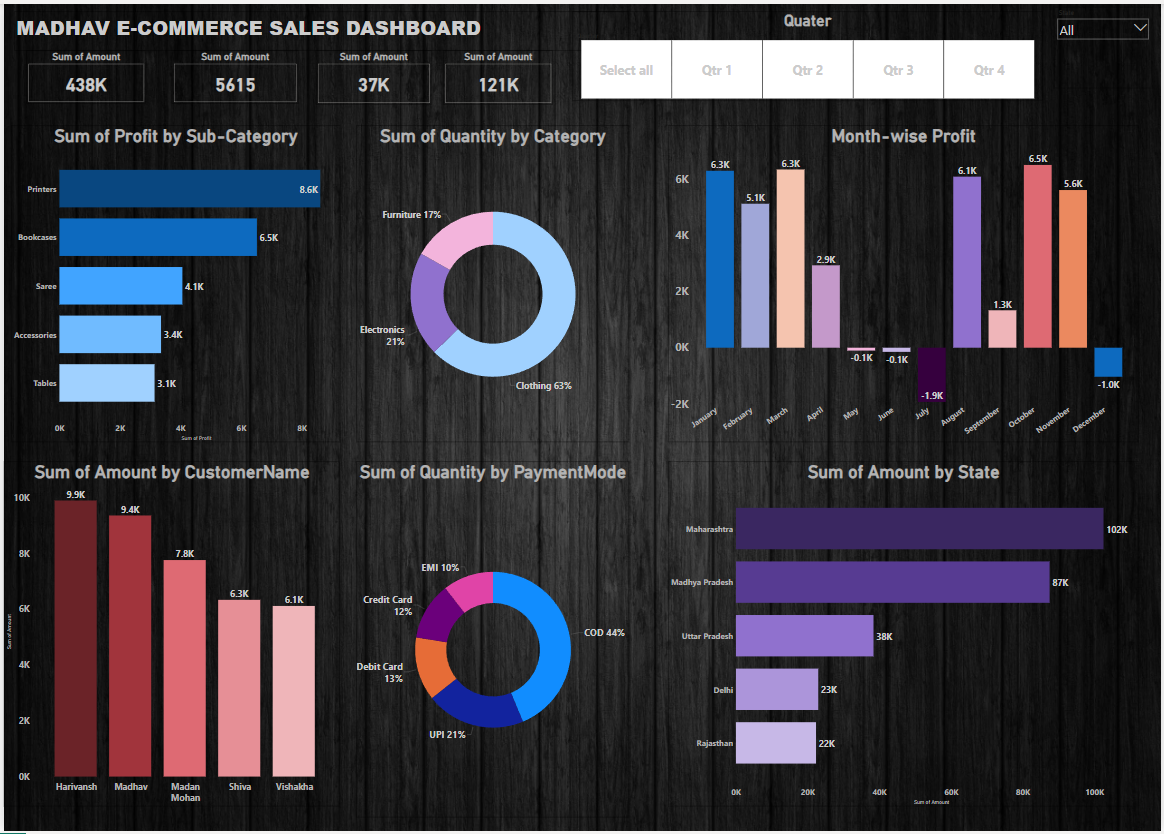

The dashboard page shown, as its layout file describes it:
{"tool":"powerbi","page":{"name":"DASHBOARDS ","canvas":[3500,2500],"ordinal":0},"visuals":[{"type":"columnChart","title":"Month-wise Profit","fields":{"Category":["Orders.Order Date.Variation.Date Hierarchy.Month"],"Y":["Sum(Details.Profit)"]},"box":[2009.1,366.7,1421.2,957.6],"z":0},{"type":"clusteredBarChart","fields":{"Category":["Details.Sub-Category"],"Y":["Sum(Details.Profit)"]},"box":[21.2,366.7,993.9,957.6],"z":1000},{"type":"donutChart","fields":{"Category":["Details.Category"],"Y":["Sum(Details.Quantity)"]},"box":[1066.7,366.7,824.2,957.6],"z":2000},{"type":"donutChart","fields":{"Category":["Details.PaymentMode"],"Y":["Sum(Details.Quantity)"]},"box":[1066.7,1384.8,824.2,1075.8],"z":3000},{"type":"cardVisual","title":"Sum of Amount","fields":{"Data":["Sum(Details.Amount)"]},"box":[69.7,139.4,360.6,160.6],"z":4000},{"type":"cardVisual","title":"Sum of Amount","fields":{"Data":["Sum(Details.Quantity)"]},"box":[509.1,142.4,381.8,160.6],"z":5000},{"type":"cardVisual","title":"Sum of Amount","fields":{"Data":["Sum(Details.Profit)"]},"box":[942.4,139.4,348.5,163.6],"z":6000},{"type":"cardVisual","title":"Sum of Amount","fields":{"Data":["Sum(Details.AOV)"]},"box":[1330.3,139.4,330.3,163.6],"z":7000},{"type":"clusteredBarChart","fields":{"Category":["Orders.State"],"Y":["Sum(Details.Amount)"]},"box":[2009.1,1384.8,1421.2,1042.4],"z":8000},{"type":"clusteredColumnChart","fields":{"Category":["Orders.CustomerName"],"Y":["Sum(Details.Amount)"]},"box":[0,1384.8,1015.2,1042.4],"z":9000},{"type":"textbox","box":[33.3,24.2,1857.6,118.2],"z":10000},{"type":"slicer","title":"Quater","fields":{"Values":["Orders.Order Date.Variation.Date Hierarchy.Quarter"]},"box":[1721.2,24.2,1421.2,269.7],"z":11000},{"type":"slicer","fields":{"Values":["Orders.State"]},"box":[3175.8,9.1,297,245.5],"z":12000}]}

Visuals, with their boxes in screenshot pixels (x1, y1, x2, y2), scaled from the page's 3500x2500 canvas onto the 1164x834 screenshot:
"Month-wise Profit" columnChart: {"x1": 668, "y1": 122, "x2": 1141, "y2": 442}
clusteredBarChart - Details.Sub-Category x Sum(Details.Profit): {"x1": 7, "y1": 122, "x2": 338, "y2": 442}
donutChart - Details.Category x Sum(Details.Quantity): {"x1": 355, "y1": 122, "x2": 629, "y2": 442}
donutChart - Details.PaymentMode x Sum(Details.Quantity): {"x1": 355, "y1": 462, "x2": 629, "y2": 821}
"Sum of Amount" cardVisual: {"x1": 23, "y1": 47, "x2": 143, "y2": 100}
"Sum of Amount" cardVisual: {"x1": 169, "y1": 48, "x2": 296, "y2": 101}
"Sum of Amount" cardVisual: {"x1": 313, "y1": 47, "x2": 429, "y2": 101}
"Sum of Amount" cardVisual: {"x1": 442, "y1": 47, "x2": 552, "y2": 101}
clusteredBarChart - Orders.State x Sum(Details.Amount): {"x1": 668, "y1": 462, "x2": 1141, "y2": 810}
clusteredColumnChart - Orders.CustomerName x Sum(Details.Amount): {"x1": 0, "y1": 462, "x2": 338, "y2": 810}
textbox: {"x1": 11, "y1": 8, "x2": 629, "y2": 48}
"Quater" slicer: {"x1": 572, "y1": 8, "x2": 1045, "y2": 98}
slicer - Orders.State: {"x1": 1056, "y1": 3, "x2": 1155, "y2": 85}
